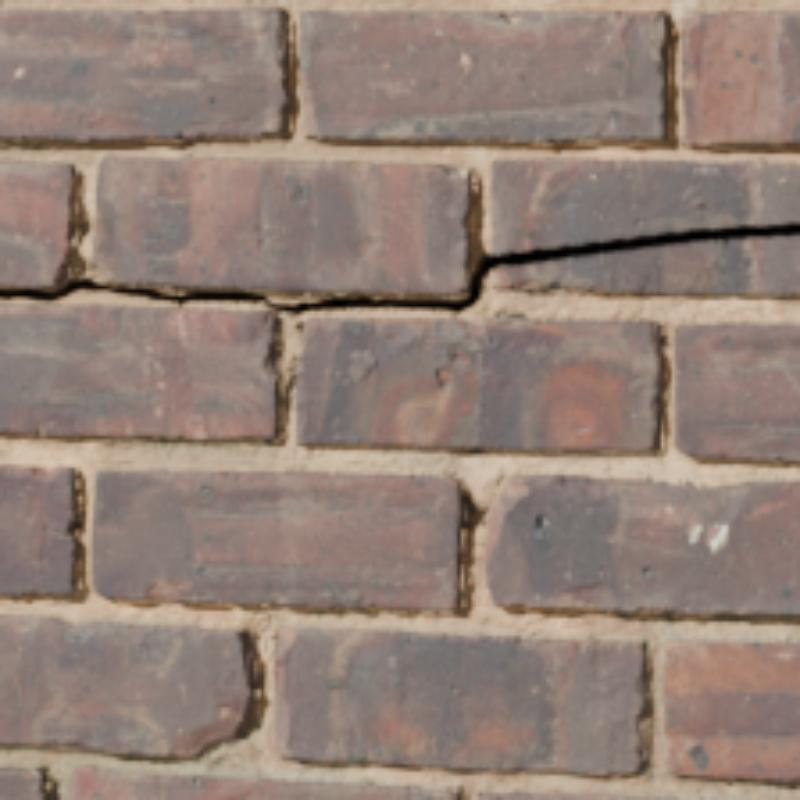pothole: (4, 225, 800, 314)
